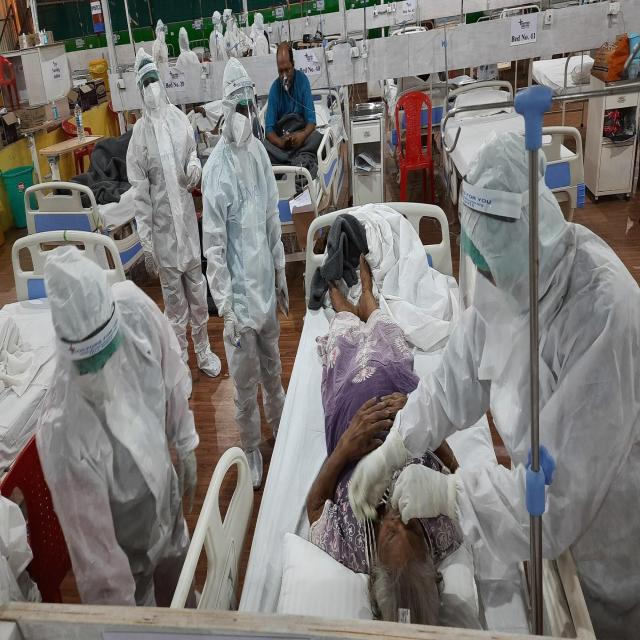Coverall: (439, 112, 640, 568), (43, 239, 198, 607), (198, 45, 301, 461), (126, 27, 206, 372)
Gloves: (397, 463, 457, 530), (343, 447, 394, 525), (213, 300, 245, 349), (270, 270, 300, 322), (136, 251, 166, 292), (182, 154, 206, 190)
Mask: (73, 376, 130, 407), (228, 111, 260, 149), (138, 86, 163, 108)
